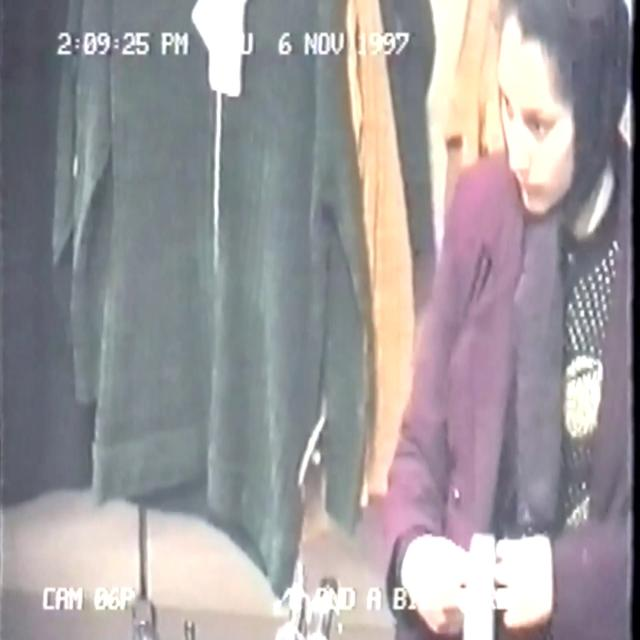normal: (249, 4, 630, 640)
